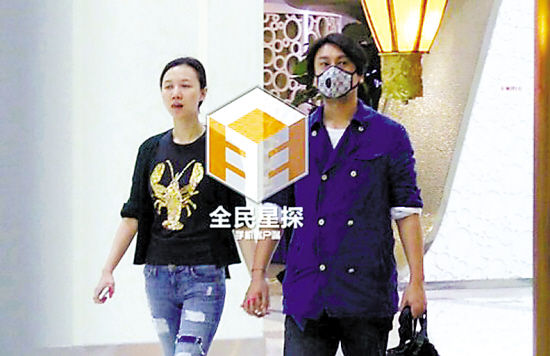face: (161, 68, 200, 115)
face_mask: (316, 45, 354, 99)
